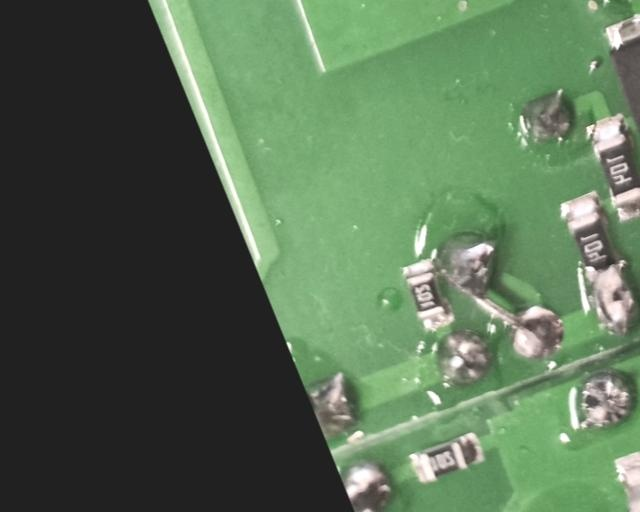chip-resistor: (548, 185, 628, 291), (576, 108, 640, 226), (401, 425, 489, 488), (392, 250, 456, 336)
